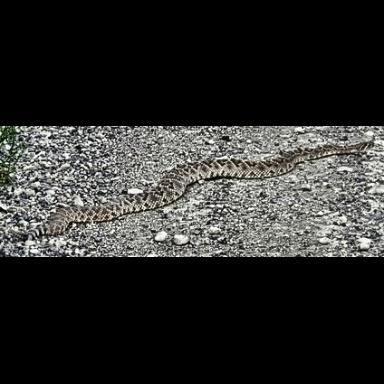snake: (0, 125, 384, 260)
